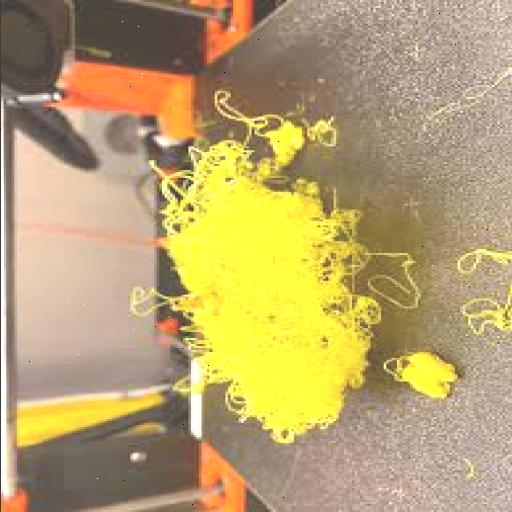spaghetti: (107, 74, 489, 442)
